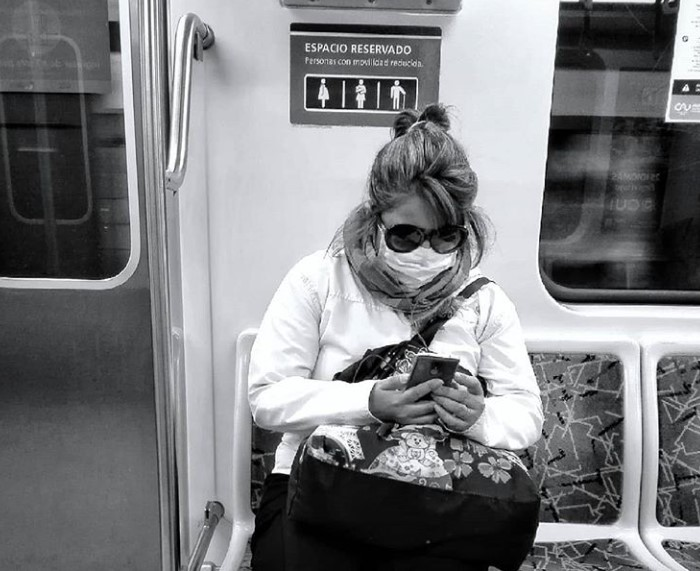face_with_mask: (367, 182, 487, 294)
